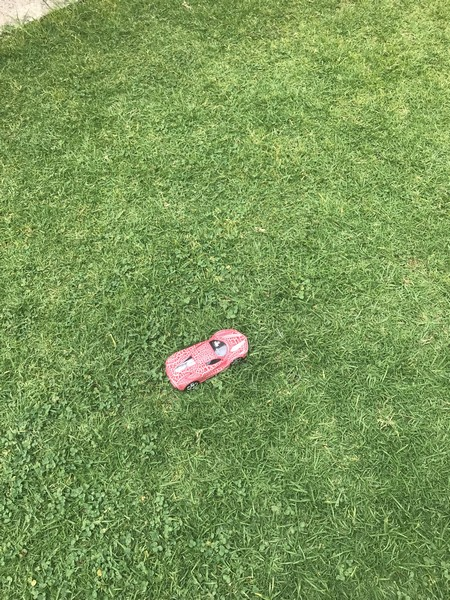RC: (163, 327, 251, 394)
